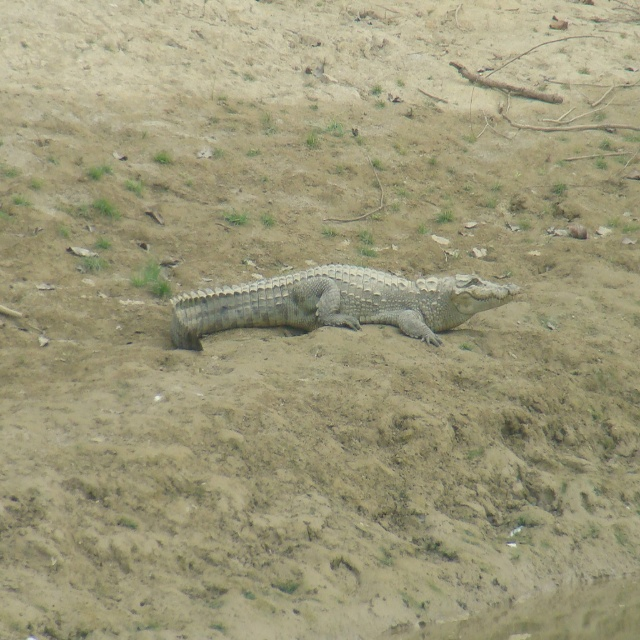Crocodile: (165, 253, 525, 355)
